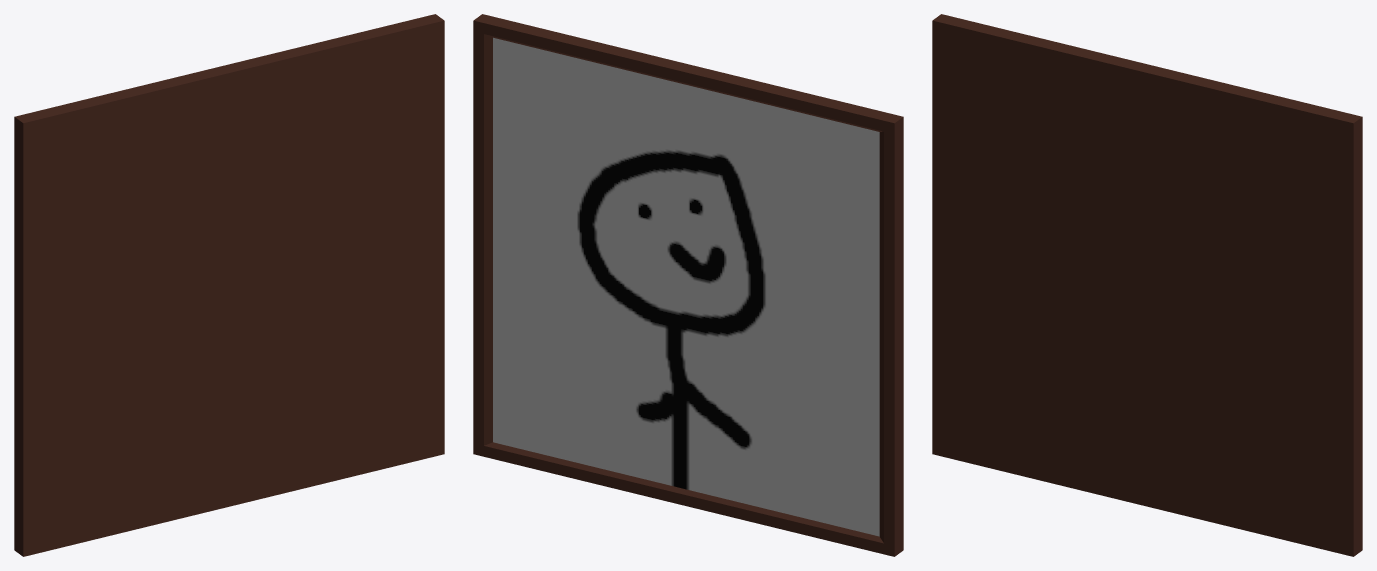
Rendered from Painting2.fbx.
The picture shows the model from 3 angles, left to right: view 1: azimuth 30°, elevation 25°; view 2: azimuth 150°, elevation 25°; view 3: azimuth 330°, elevation 25°; orthographic projection.
Parts seen in each view (by area): view 1: Cube.006; view 2: Cube.006; view 3: Cube.006.
Part boxes in pixels (x1,y1,x2,y2): Cube.006: [14, 14, 444, 556]; Cube.006: [473, 14, 903, 556]; Cube.006: [932, 14, 1362, 556].
Bounding box in the file's own units: 436 × 429 × 16.04.
Materials: 2 (1 with a texture image).
